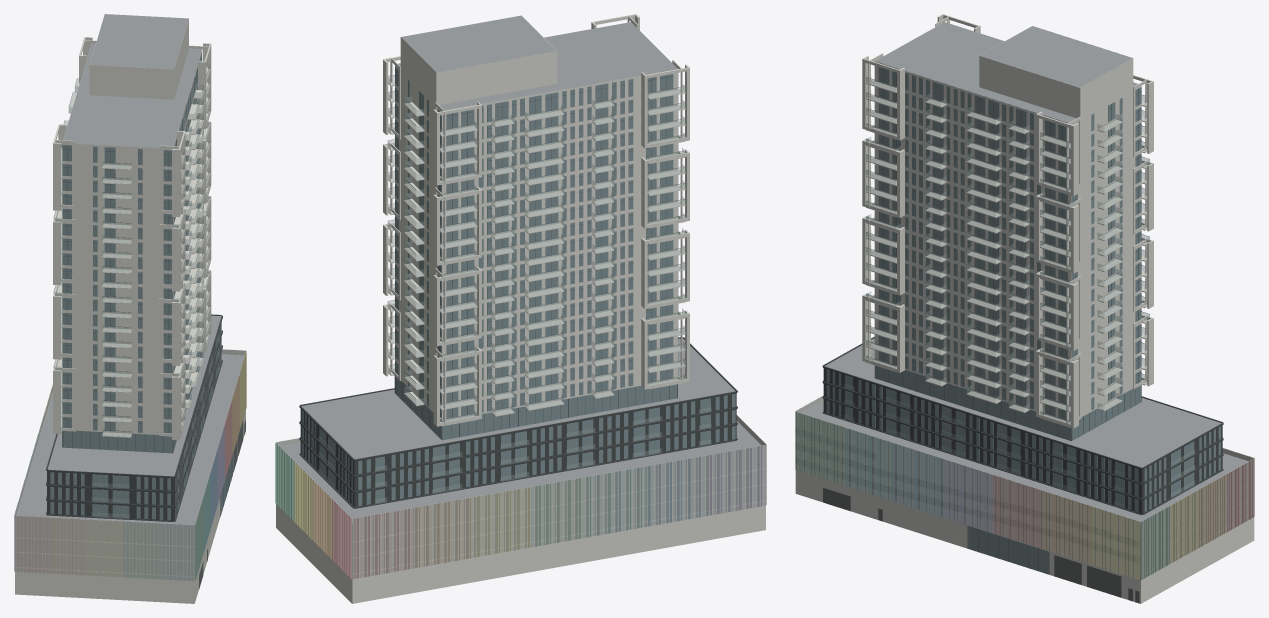
File: 26-park-four-side-4d791535afe0.glb
3 views of the same model, side by side, from view 1: azimuth 30°, elevation 25°; view 2: azimuth 150°, elevation 25°; view 3: azimuth 270°, elevation 25° (orthographic). The views are drawn at different scales.
Visible parts, largest first — view 1: West source off-white tower backing, West lower podium screen backing, West source window-wall bays, West lower podium multicolour screen battens (×5), wf-26park-tower26, wf-26park-podium3, South separate balcony slabs, wf-26park-mechanical, West lower podium source plain base, wf-26park-podium6, South frame short depth returns, Source-visible multicolour aluminium batten screen (×7) (+30 smaller); view 2: North source window-wall bays, North source off-white tower backing, North lower podium screen backing, North lower podium multicolour screen battens (×7), North balcony front guards, North separate source balcony slabs, North lower podium source plain base, North podium source glazing rhythm, North podium dark porcelain backing, wf-26park-podium6, North four-storey source frame groups, East source off-white tower backing (+28 smaller); view 3: South source-visible window-wall bays, South off-white wall backing, Source-visible multicolour aluminium batten screen (×7), Lower screen neutral backing, South separate balcony slabs, East source off-white tower backing, South balcony clear-front guards, South podium window rhythm, South dark porcelain podium backing, wf-26park-podium6, Eight source-visible south tower frame groups, East lower podium multicolour screen battens (×4) (+30 smaller).
Boxes of the visible parts, left/top/right/bottom form: West source off-white tower backing: left=62, top=143, right=171, bottom=434; West lower podium screen backing: left=15, top=515, right=194, bottom=580; West source window-wall bays: left=62, top=145, right=172, bottom=433; West lower podium multicolour screen battens (×5): left=15, top=516, right=193, bottom=580; wf-26park-tower26: left=63, top=43, right=201, bottom=452; wf-26park-podium3: left=16, top=354, right=244, bottom=524; South separate balcony slabs: left=174, top=67, right=210, bottom=437; wf-26park-mechanical: left=90, top=14, right=188, bottom=69; West lower podium source plain base: left=15, top=571, right=194, bottom=603; wf-26park-podium6: left=47, top=315, right=221, bottom=476; South frame short depth returns: left=172, top=43, right=209, bottom=440; Source-visible multicolour aluminium batten screen (×7): left=195, top=351, right=246, bottom=580; North source window-wall bays: left=446, top=74, right=673, bottom=418; North source off-white tower backing: left=442, top=69, right=677, bottom=420; North lower podium screen backing: left=352, top=445, right=765, bottom=579; North lower podium multicolour screen battens (×7): left=353, top=445, right=765, bottom=578; North balcony front guards: left=442, top=87, right=685, bottom=422; North separate source balcony slabs: left=439, top=89, right=685, bottom=426; North lower podium source plain base: left=352, top=505, right=765, bottom=603; North podium source glazing rhythm: left=358, top=394, right=735, bottom=506; North podium dark porcelain backing: left=354, top=393, right=736, bottom=507; wf-26park-podium6: left=301, top=338, right=735, bottom=459; North four-storey source frame groups: left=436, top=67, right=689, bottom=426; East source off-white tower backing: left=395, top=65, right=441, bottom=412; South source-visible window-wall bays: left=878, top=67, right=1067, bottom=419; South off-white wall backing: left=874, top=61, right=1071, bottom=421; Source-visible multicolour aluminium batten screen (×7): left=795, top=412, right=1139, bottom=579; Lower screen neutral backing: left=795, top=411, right=1140, bottom=579; South separate balcony slabs: left=866, top=80, right=1073, bottom=427; East source off-white tower backing: left=1071, top=86, right=1141, bottom=417; South balcony clear-front guards: left=866, top=77, right=1069, bottom=423; South podium window rhythm: left=826, top=369, right=1138, bottom=512; South dark porcelain podium backing: left=823, top=368, right=1142, bottom=514; wf-26park-podium6: left=825, top=338, right=1221, bottom=467; Eight source-visible south tower frame groups: left=862, top=58, right=1074, bottom=428; East lower podium multicolour screen battens (×4): left=1141, top=459, right=1254, bottom=579.
Size of the model in its own units: 71.12 by 89.95 by 79.32.
